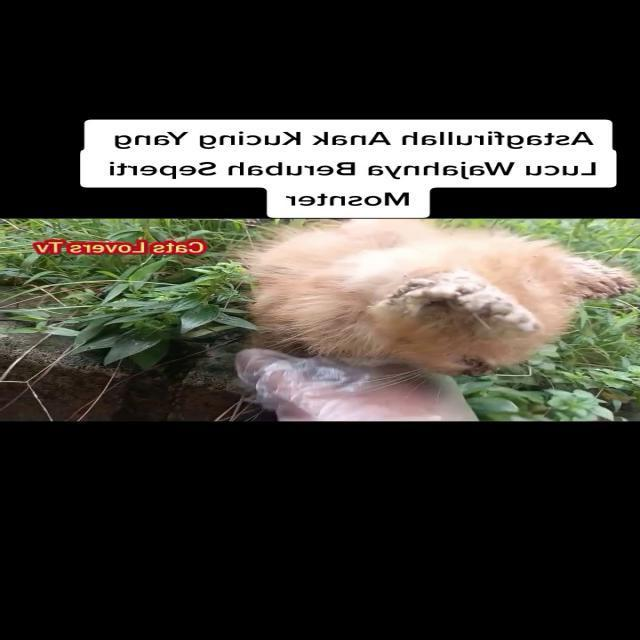ghe: (364, 265, 557, 346)
